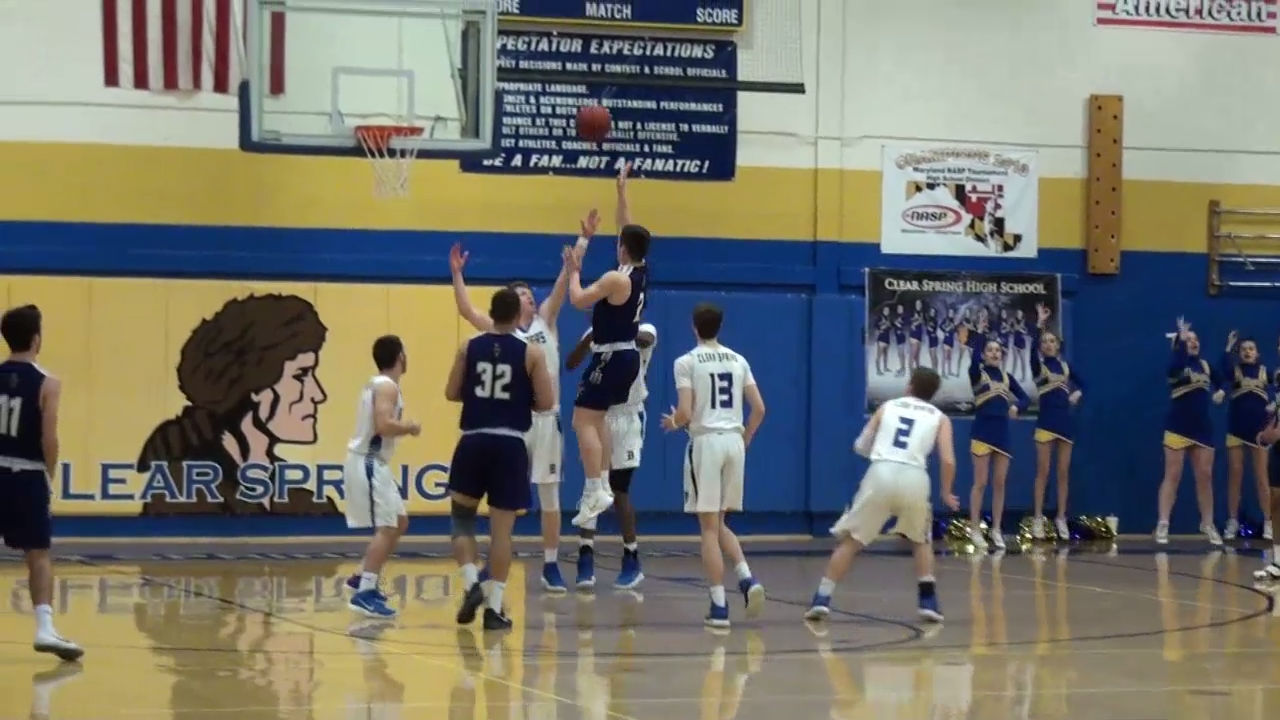ball: (576, 105, 610, 142)
basket: (355, 117, 430, 193)
player: (444, 241, 570, 582), (430, 285, 550, 628), (561, 181, 664, 528), (813, 365, 948, 628), (665, 301, 767, 628), (1, 299, 71, 659), (344, 341, 422, 621)
